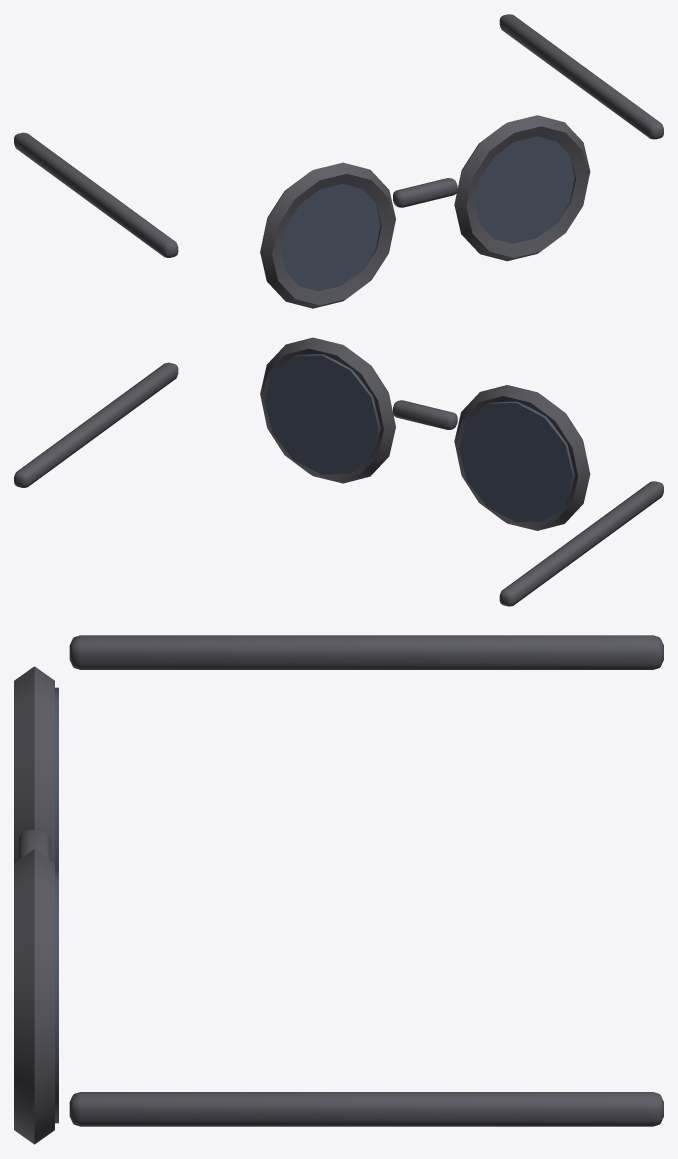
Rendered from CharGlassesRound.fbx.
3 views of the same model, one above another, from view 1: azimuth 30°, elevation 25°; view 2: azimuth 150°, elevation 25°; view 3: azimuth 270°, elevation 25° (orthographic). The views are drawn at different scales.
Visible parts, largest first — view 1: CharGlassesRound; view 2: CharGlassesRound; view 3: CharGlassesRound.
Boxes of the visible parts, box(x1,y1,x2,y2) form: CharGlassesRound: box(14, 14, 663, 308); CharGlassesRound: box(14, 337, 663, 606); CharGlassesRound: box(14, 635, 663, 1144).
Size of the model in its own units: 0.412 by 0.1092 by 0.2406.
